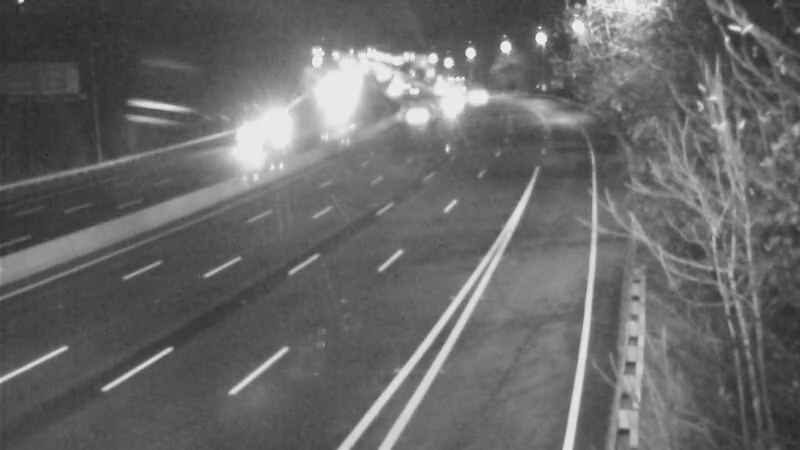vehicle: (445, 66, 495, 116), (423, 77, 473, 127), (386, 93, 436, 143), (213, 123, 263, 173), (255, 101, 305, 151)
